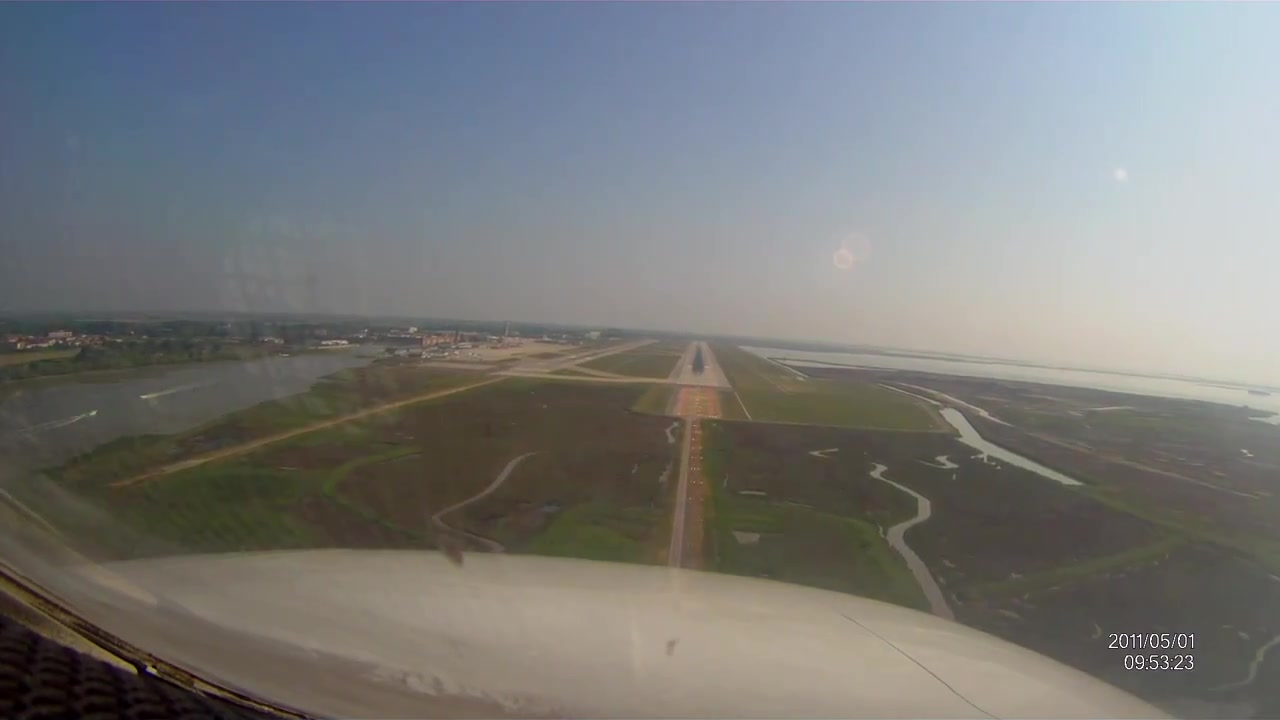runway: (678, 339, 720, 386)
